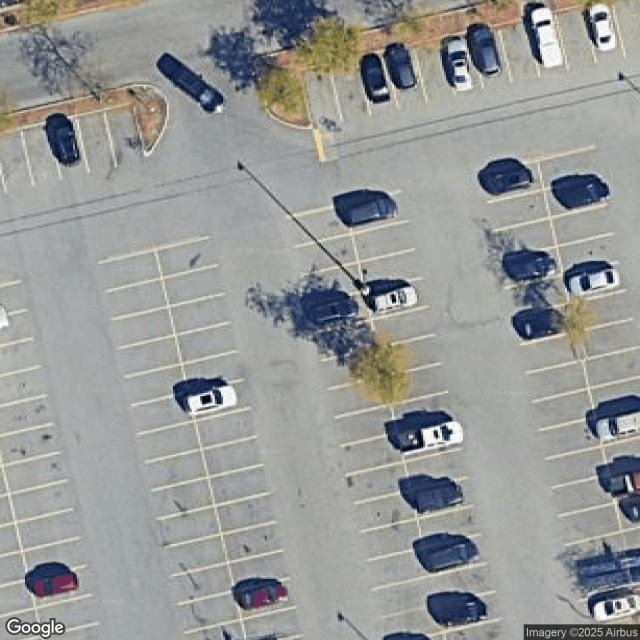car: (396, 423, 463, 456), (530, 9, 563, 67), (354, 54, 390, 104), (442, 36, 472, 94), (407, 478, 460, 510), (46, 120, 83, 165), (382, 44, 418, 90), (482, 162, 534, 193), (559, 178, 611, 208), (422, 542, 472, 572), (342, 195, 388, 227), (594, 410, 640, 442), (237, 579, 288, 607), (189, 386, 235, 417), (586, 5, 615, 53), (310, 297, 358, 326), (572, 269, 619, 298), (469, 28, 498, 74), (436, 601, 484, 627), (31, 568, 77, 595), (515, 313, 562, 339), (592, 595, 640, 620), (374, 286, 419, 312), (506, 258, 550, 280), (608, 473, 640, 496)
lot_boundary: (1, 0, 639, 639)
objects: (255, 0, 602, 127), (0, 82, 169, 155), (574, 550, 639, 600), (617, 492, 640, 522)
stall: (552, 202, 617, 249), (537, 146, 606, 190), (564, 260, 629, 306), (294, 233, 361, 277), (321, 347, 388, 391), (327, 376, 394, 420), (434, 592, 504, 634), (313, 318, 380, 361), (373, 305, 440, 348), (380, 334, 447, 377), (386, 363, 453, 406), (0, 422, 67, 465), (28, 566, 93, 610), (309, 289, 374, 333), (523, 13, 569, 75), (478, 160, 544, 203), (544, 176, 613, 217), (405, 447, 469, 491), (34, 593, 99, 636), (340, 433, 405, 476), (487, 188, 552, 231), (393, 390, 459, 432), (358, 251, 424, 293), (352, 220, 415, 264), (179, 591, 243, 634), (287, 205, 350, 248), (342, 191, 408, 232), (15, 510, 79, 552), (44, 116, 88, 177), (556, 231, 617, 275), (529, 360, 590, 404), (547, 446, 609, 489), (173, 322, 238, 363), (534, 388, 594, 432), (168, 294, 232, 335), (356, 492, 420, 533), (419, 507, 480, 550), (357, 51, 400, 112), (498, 19, 541, 80), (126, 364, 188, 406), (133, 392, 195, 434), (228, 550, 290, 592), (214, 493, 276, 535), (188, 379, 251, 420), (542, 417, 602, 460), (562, 503, 622, 546), (299, 64, 342, 124), (553, 6, 596, 66), (102, 250, 163, 292), (347, 462, 408, 504), (470, 26, 512, 87), (76, 109, 116, 173), (441, 35, 485, 93), (108, 278, 170, 319), (424, 534, 486, 575), (8, 482, 71, 522), (140, 422, 203, 462), (224, 522, 284, 564), (582, 1, 624, 61), (381, 46, 425, 103), (202, 437, 263, 478), (363, 520, 424, 561), (552, 476, 613, 517), (24, 539, 88, 578), (168, 535, 230, 575), (304, 262, 366, 302), (115, 308, 175, 349), (209, 465, 269, 506), (164, 266, 224, 307), (503, 245, 563, 286), (516, 304, 576, 345), (367, 279, 427, 320), (327, 60, 370, 117), (123, 336, 184, 376), (174, 564, 235, 604), (186, 351, 245, 392), (338, 405, 397, 446), (416, 40, 457, 99), (400, 419, 462, 458), (583, 348, 639, 391), (3, 454, 63, 494), (155, 477, 215, 517), (162, 506, 222, 546), (236, 580, 296, 620), (158, 239, 218, 279), (498, 218, 558, 258), (429, 563, 493, 600), (370, 549, 429, 589), (103, 104, 143, 163), (0, 126, 35, 193), (196, 409, 256, 448), (412, 478, 470, 518), (581, 320, 639, 360), (573, 291, 632, 330), (377, 579, 433, 620), (507, 275, 567, 313), (149, 451, 208, 489), (0, 395, 57, 434), (22, 123, 59, 182), (521, 334, 580, 371), (588, 590, 639, 629), (592, 377, 639, 419), (566, 532, 623, 566), (241, 608, 300, 640), (384, 608, 444, 639), (0, 367, 46, 405), (597, 408, 639, 444), (614, 490, 639, 537), (604, 438, 639, 471), (607, 467, 639, 503), (45, 113, 71, 133)
